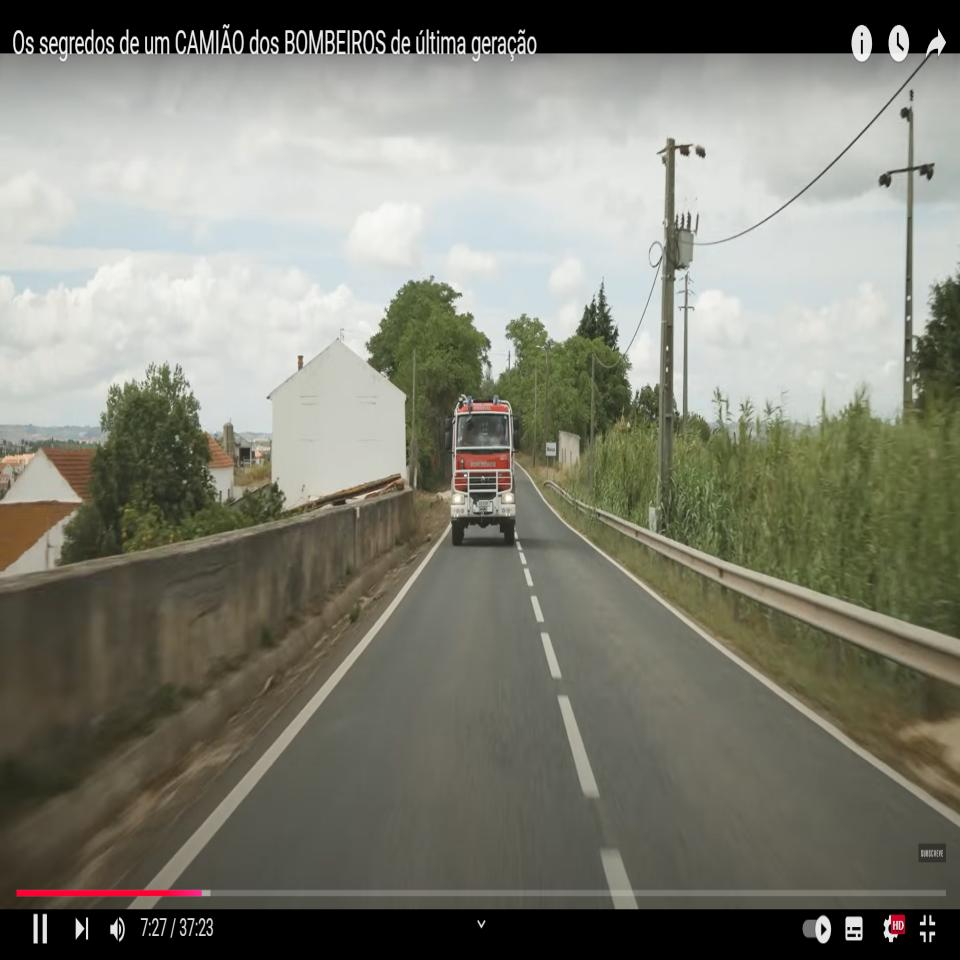viatura: (444, 394, 522, 547)
